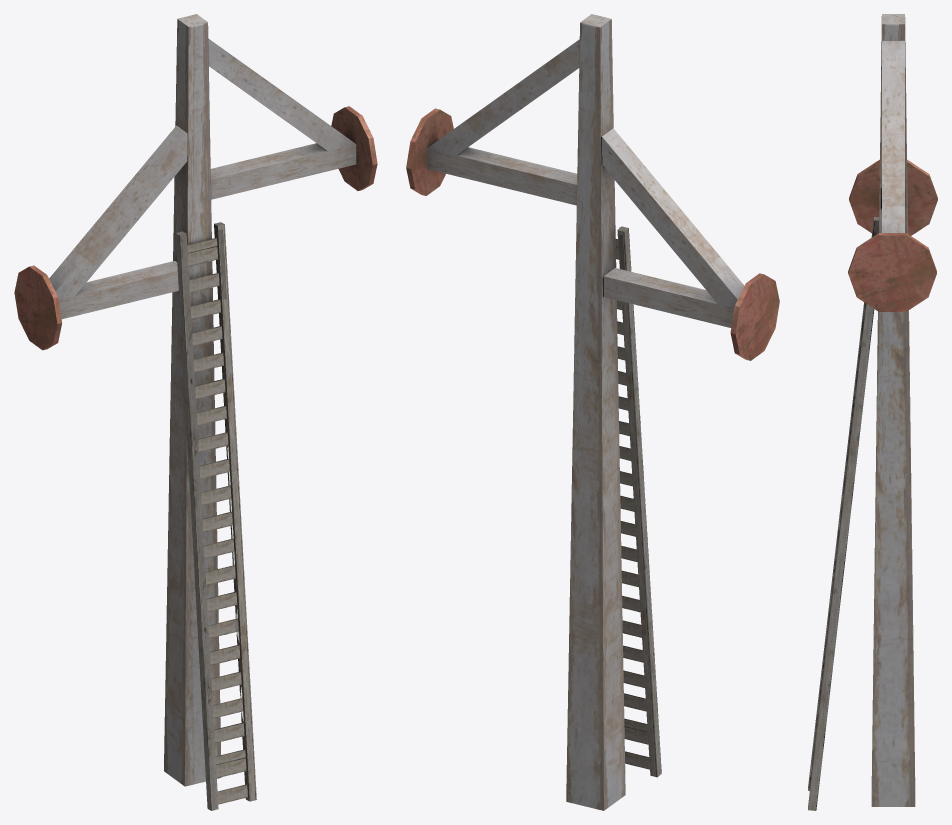
The model's file is SkiLiftGround_Tower.dae.
3 views of the same model, side by side, from view 1: azimuth 30°, elevation 25°; view 2: azimuth 150°, elevation 25°; view 3: azimuth 270°, elevation 25° (orthographic). The views are drawn at different scales.
Parts seen in each view (by area): view 1: Column, arm.001, Cube.002, arm, Cube.001, Cube, wheel.001, wheel; view 2: Column, arm.001, arm, Cube.001, Cube.002, wheel.001, wheel; view 3: Column, wheel, Cube, arm, wheel.001, Cube.001.
Boxes of the visible parts, <box> form: Column: <box>164,14,221,786</box>; arm.001: <box>49,125,187,319</box>; Cube.002: <box>185,232,247,804</box>; arm: <box>208,38,356,199</box>; Cube.001: <box>175,231,218,810</box>; Cube: <box>214,222,256,801</box>; wheel.001: <box>14,265,61,350</box>; wheel: <box>331,106,377,190</box>; Column: <box>566,14,625,810</box>; arm.001: <box>602,128,744,327</box>; arm: <box>427,39,579,205</box>; Cube.001: <box>617,226,661,777</box>; Cube.002: <box>615,227,649,769</box>; wheel.001: <box>730,273,779,360</box>; wheel: <box>406,108,453,195</box>; Column: <box>871,14,915,806</box>; wheel: <box>848,233,936,311</box>; Cube: <box>808,304,874,810</box>; arm: <box>882,40,904,232</box>; wheel.001: <box>849,159,937,235</box>; Cube.001: <box>808,216,879,790</box>.
Size of the model in its own units: 3.11 by 1.06 by 7.01.
Materials: 2 (2 with a texture image).
